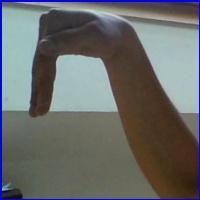A: (26, 9, 153, 130)
